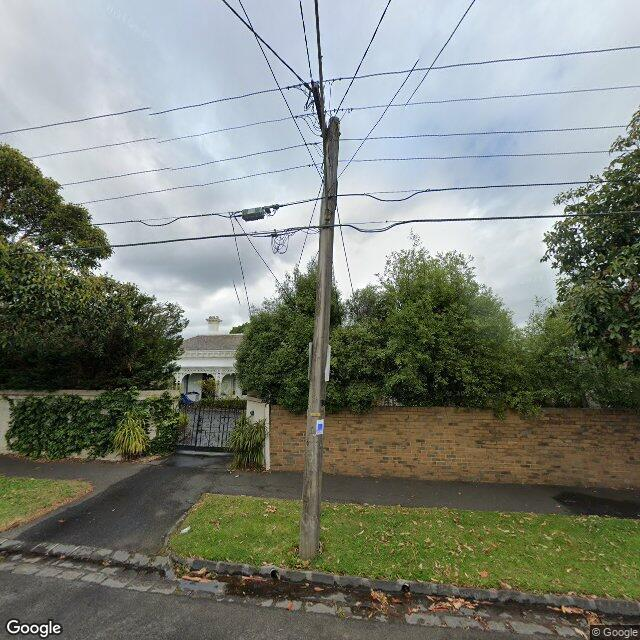crossarm: (313, 83, 322, 132)
streetlight: (314, 0, 326, 138)
timber-pole: (299, 116, 340, 562)
